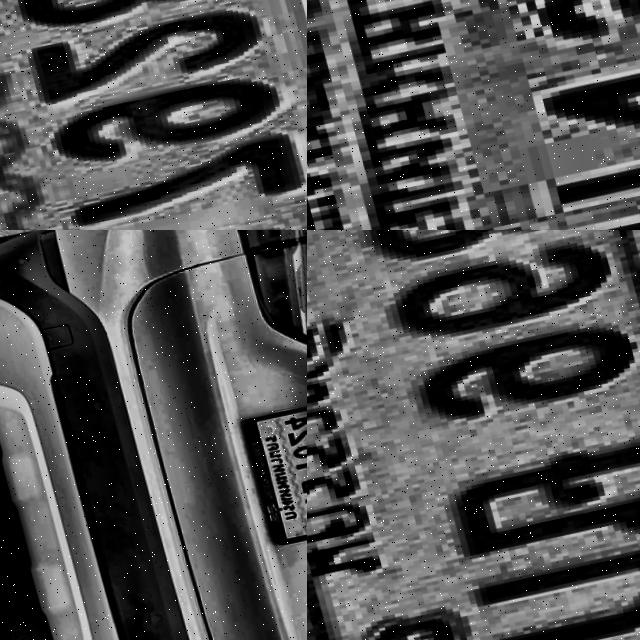license-plate: (307, 230, 640, 640), (307, 0, 640, 230), (0, 0, 307, 230), (231, 401, 307, 551)
